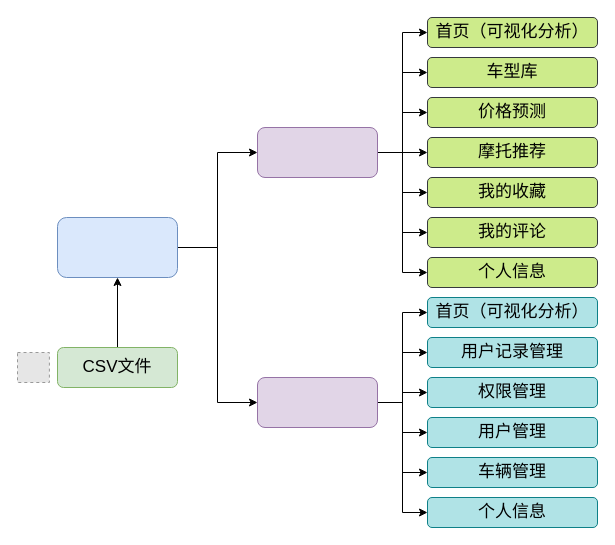
Some shapes in this 615 by 545 pixel diagram are drawn without their labels. Grey dashed boxes stand in for pictures. The shapes that lost their labels are listed below. From the top down, each one's centre as x and y in pixels, then its label:
At pixel 317 152: "用户".
At pixel 117 247: "系统平台".
At pixel 317 402: "管理员".
